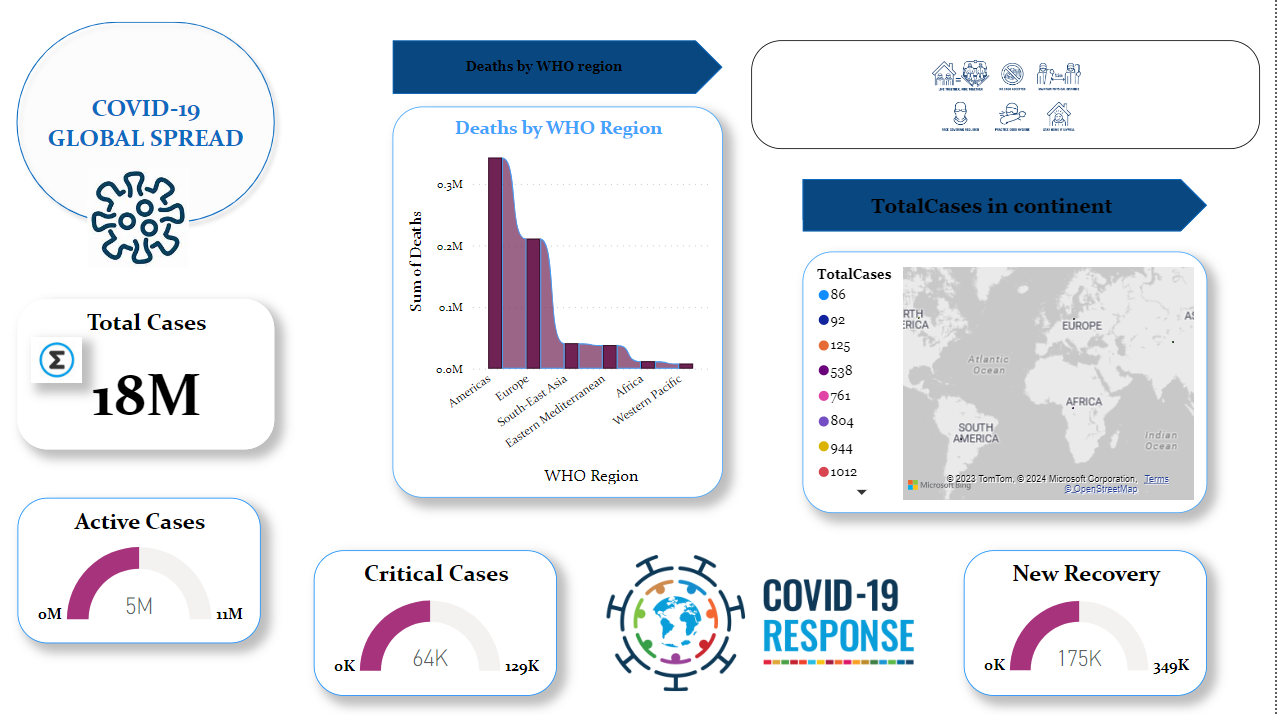

Layout of this report page (visuals, bound fields, positions):
{"tool":"powerbi","page":{"name":"Dashboard 2","canvas":[1280,720],"ordinal":1},"visuals":[{"type":"card","title":"Total Cases","fields":{"Values":["Sum(worldometer_data.TotalCases)"]},"box":[22,299.5,256.7,150.4],"z":0},{"type":"shape","box":[12.2,13.4,276.3,218.8],"z":1},{"type":"image","box":[36.7,337.4,51.3,46.5],"z":3},{"type":"ribbonChart","title":"Deaths by WHO Region","fields":{"Category":["country_wise_latest.WHO Region"],"Y":["Sum(country_wise_latest.Deaths)"]},"box":[397.3,107.6,330.1,391.2],"z":4},{"type":"map","title":" TotalCases in Continent","fields":{"Category":["worldometer_data.Continent"],"Series":["worldometer_data.TotalCases"]},"box":[808,253,404.6,261.6],"z":5},{"type":"shape","box":[397.3,41.6,330.1,53.8],"z":6},{"type":"image","box":[756.7,41.6,508.5,108.8],"z":7},{"type":"shape","box":[808,179.7,404.6,52.6],"z":8},{"type":"gauge","title":"Active Cases","fields":{"Y":["Sum(worldometer_data.ActiveCases)"]},"box":[22,498.7,243.3,145.5],"z":9},{"type":"image","box":[88,162.6,111.2,112.5],"z":10},{"type":"gauge","title":"Critical Cases","fields":{"Y":["Sum(worldometer_data.Serious,Critical)"]},"box":[319,551.3,243.3,145.5],"z":11},{"type":"gauge","title":"New Recovery","fields":{"Y":["Sum(country_wise_latest.New recovered)"]},"box":[969.4,551.3,243.3,145.5],"z":12},{"type":"image","box":[578.2,551.3,372.8,145.5],"z":13}]}

Visuals, with their boxes in screenshot pixels (x1, y1, x2, y2), scaled from the page's 1280x720 canvas onto the 1279x715 screenshot:
"Total Cases" card: Rect(22, 297, 278, 447)
shape: Rect(12, 13, 288, 231)
image: Rect(37, 335, 88, 381)
"Deaths by WHO Region" ribbonChart: Rect(397, 107, 727, 495)
" TotalCases in Continent" map: Rect(807, 251, 1212, 511)
shape: Rect(397, 41, 727, 95)
image: Rect(756, 41, 1264, 149)
shape: Rect(807, 178, 1212, 231)
"Active Cases" gauge: Rect(22, 495, 265, 640)
image: Rect(88, 161, 199, 273)
"Critical Cases" gauge: Rect(319, 547, 562, 692)
"New Recovery" gauge: Rect(969, 547, 1212, 692)
image: Rect(578, 547, 950, 692)
